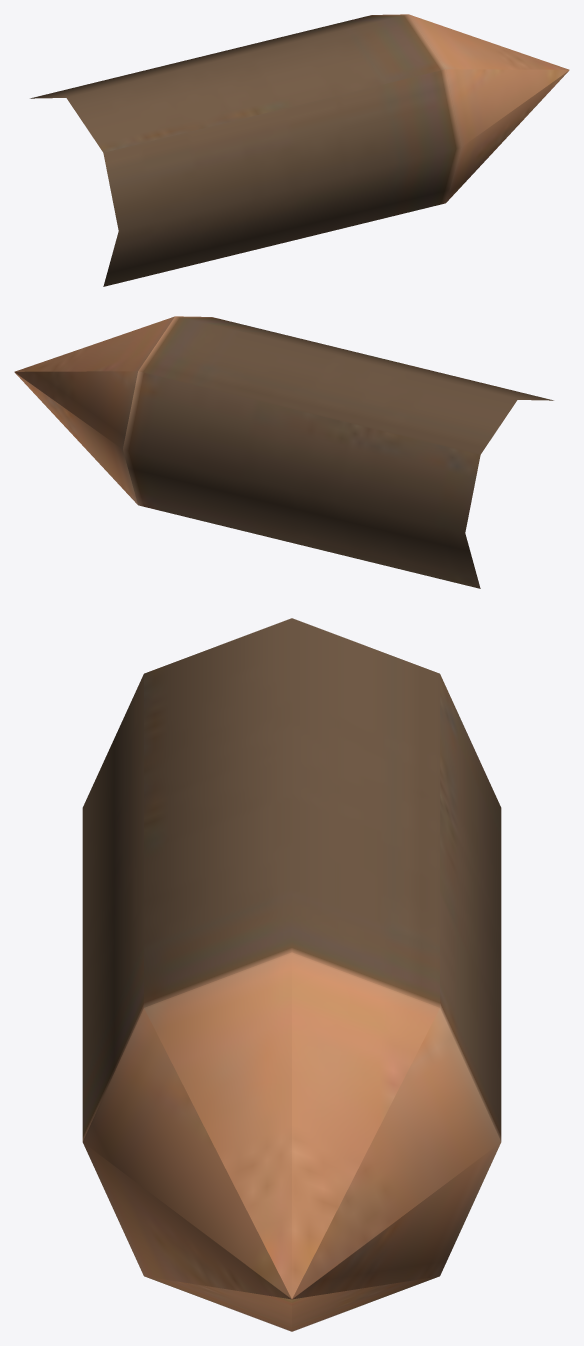
Rendered from artillery-shell.glb.
The picture shows the model from 3 angles, top to bottom: view 1: azimuth 30°, elevation 25°; view 2: azimuth 150°, elevation 25°; view 3: azimuth 270°, elevation 25°; orthographic projection. The views are drawn at different scales.
Visible parts, largest first — view 1: artillery-shell; view 2: artillery-shell; view 3: artillery-shell.
Part boxes in pixels (<box>): artillery-shell: <box>30,14,569,286</box>; artillery-shell: <box>14,316,553,588</box>; artillery-shell: <box>82,618,501,1331</box>.
Size of the model in its own units: 0.25 by 0.09 by 0.09.
Materials: 1 (1 with a texture image).
